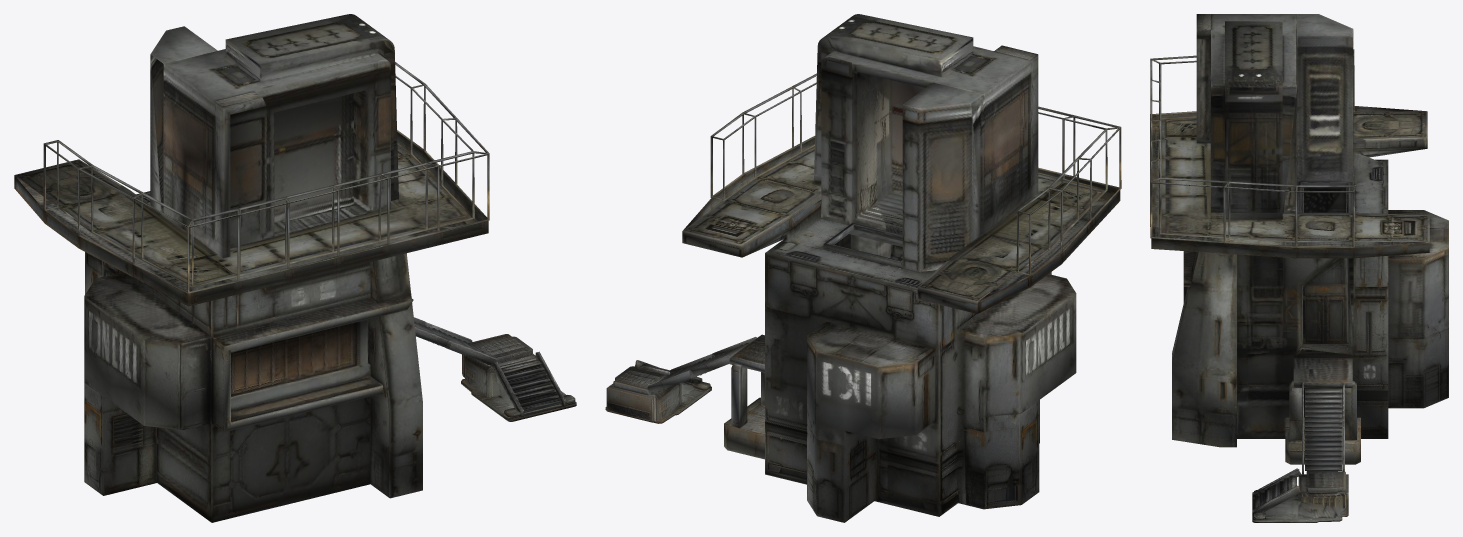
Rendered from prop_tower.glb.
The picture shows the model from 3 angles, left to right: view 1: azimuth 30°, elevation 25°; view 2: azimuth 150°, elevation 25°; view 3: azimuth 270°, elevation 25°; orthographic projection. The views are drawn at different scales.
Parts seen in each view (by area): view 1: Mesh_0; view 2: Mesh_0; view 3: Mesh_0.
Boxes of the visible parts, x1,y1,x2,y2 form: Mesh_0: [14, 14, 576, 522]; Mesh_0: [605, 14, 1121, 522]; Mesh_0: [1150, 14, 1448, 522].
Size of the model in its own units: 2 by 1.75 by 1.3.
1 material, 1 textured.
